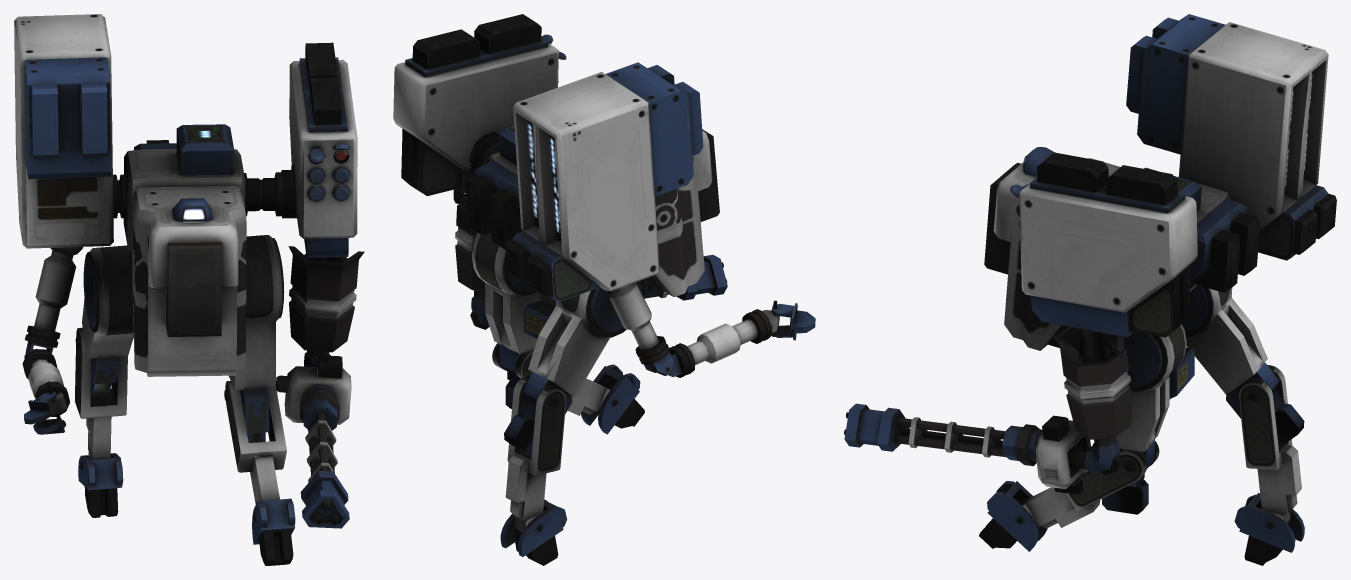
File: robot_2.glb
The picture shows the model from 3 angles, left to right: view 1: azimuth 30°, elevation 25°; view 2: azimuth 150°, elevation 25°; view 3: azimuth 270°, elevation 25°; orthographic projection. The views are drawn at different scales.
Parts seen in each view (by area): view 1: roboto; view 2: roboto; view 3: roboto.
Part boxes in pixels (x1=…): roboto: x1=14, y1=14, x2=364, y2=565; roboto: x1=393, y1=14, x2=815, y2=565; roboto: x1=844, y1=14, x2=1336, y2=565.
Size of the model in its own units: 19.96 by 24.74 by 22.39.
Materials: 1 (1 with a texture image).
